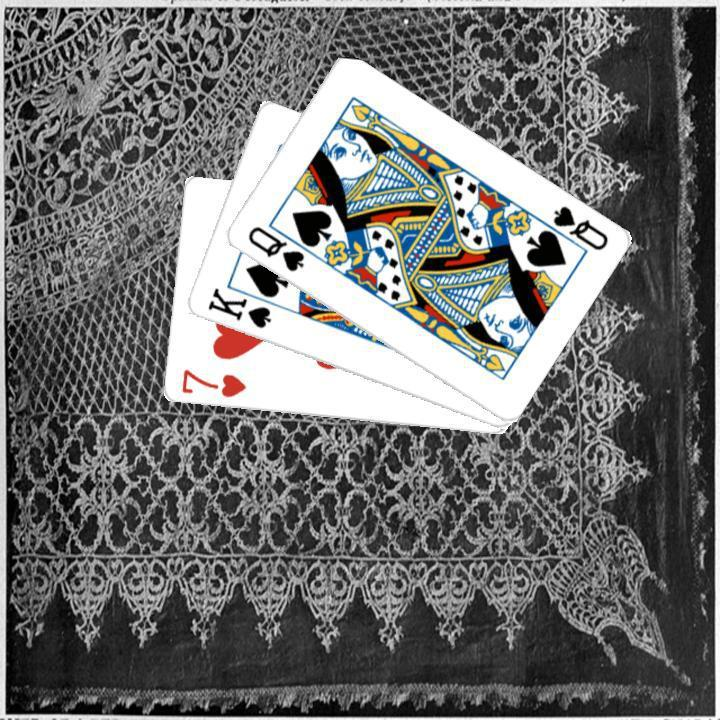7: (176, 365, 248, 400)
K: (202, 284, 273, 331)
Q: (242, 221, 306, 274), (547, 201, 610, 253)
